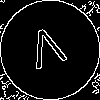V: (25, 25, 71, 79)
